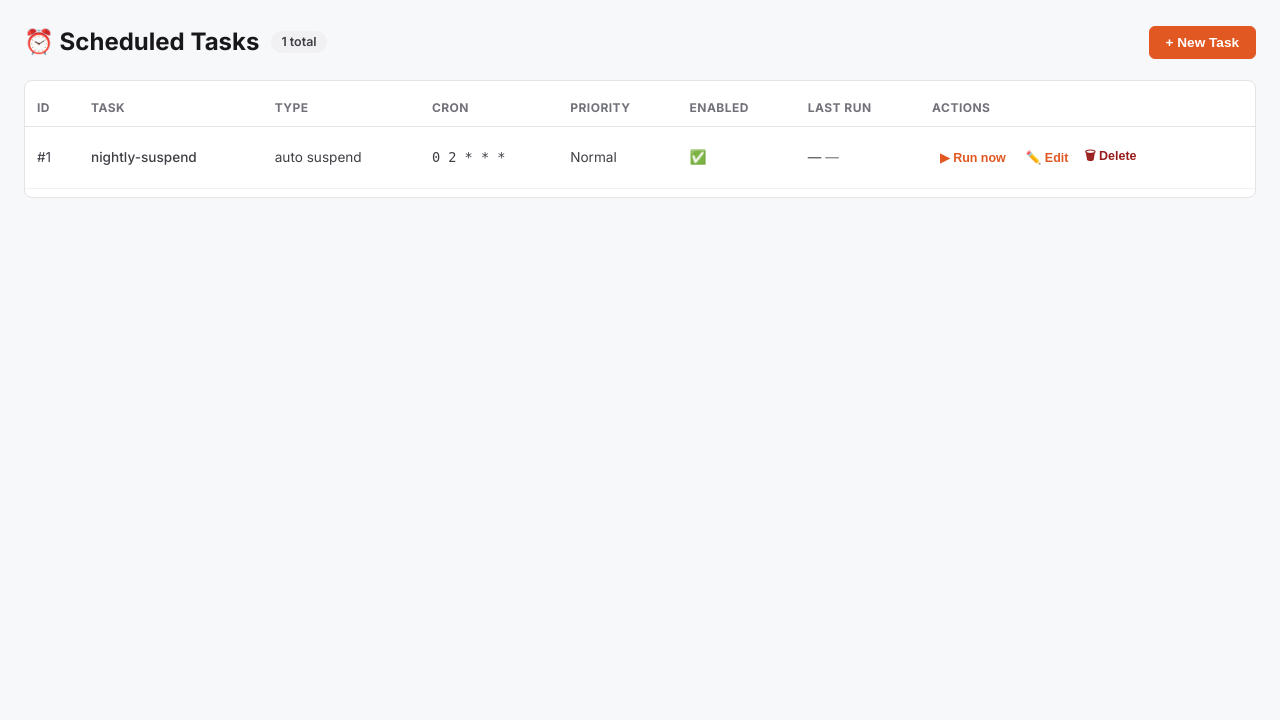
Test: ScheduledTaskList page › surfaces the backend reason when a manual run fails
The image size is (1280, 720).
Click the button "▶ Run now": (973, 158) [932,138,1014,178]
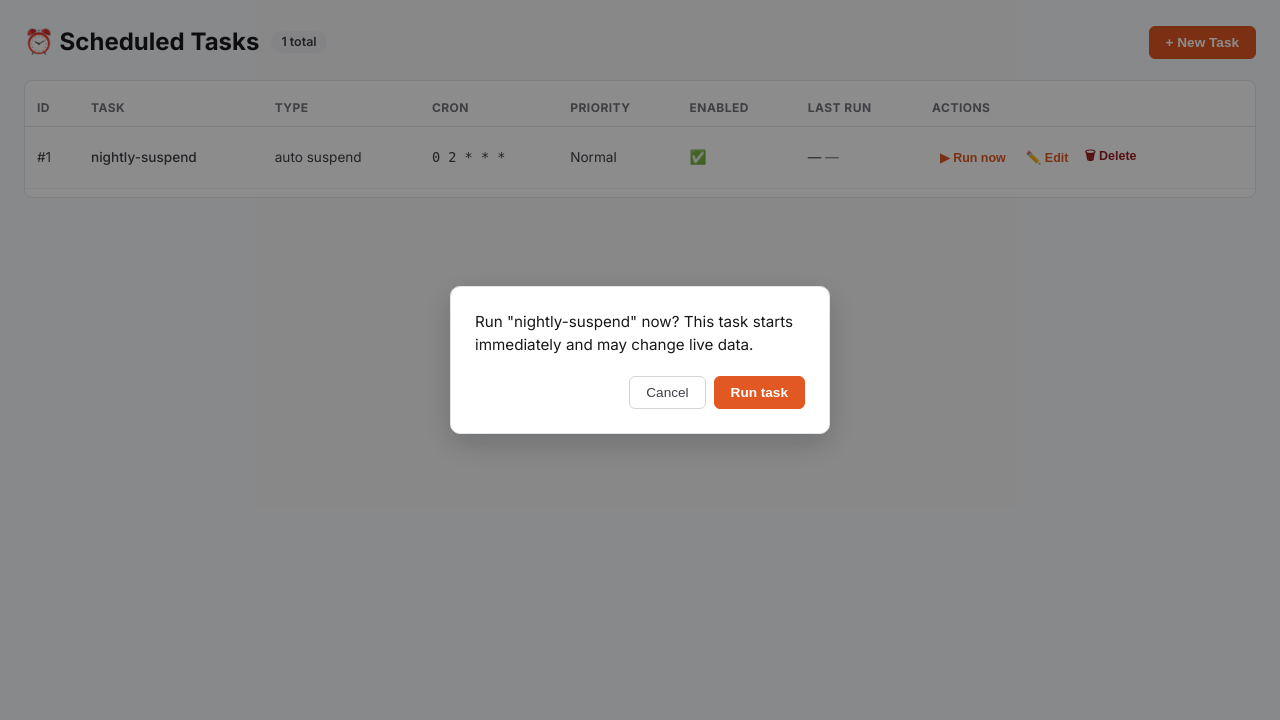
Click the button "Run task": (759, 393) [714,376,805,409]
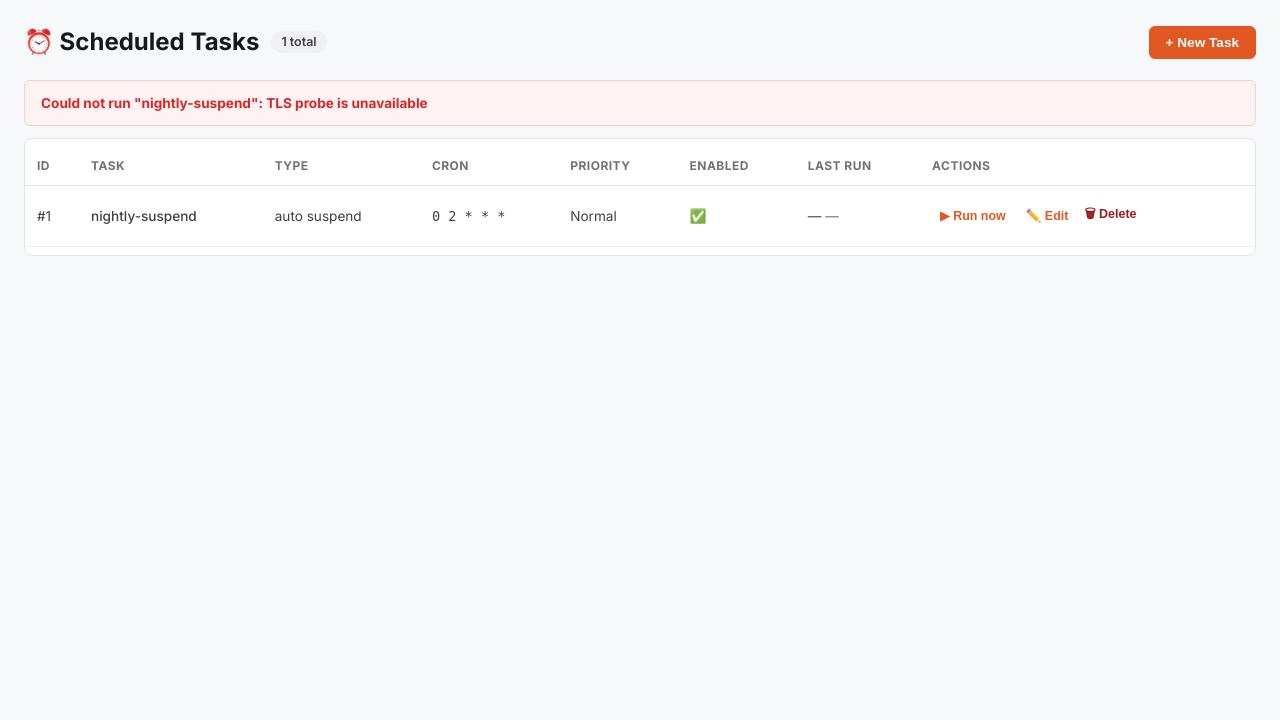
Result: the message reads "Could not run \"nightly-suspend\": TLS probe is unavailable" at [41,95,428,111]
